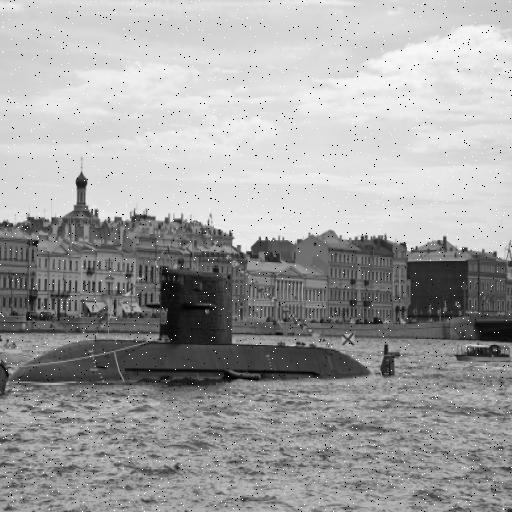submarine: (5, 262, 406, 380)
